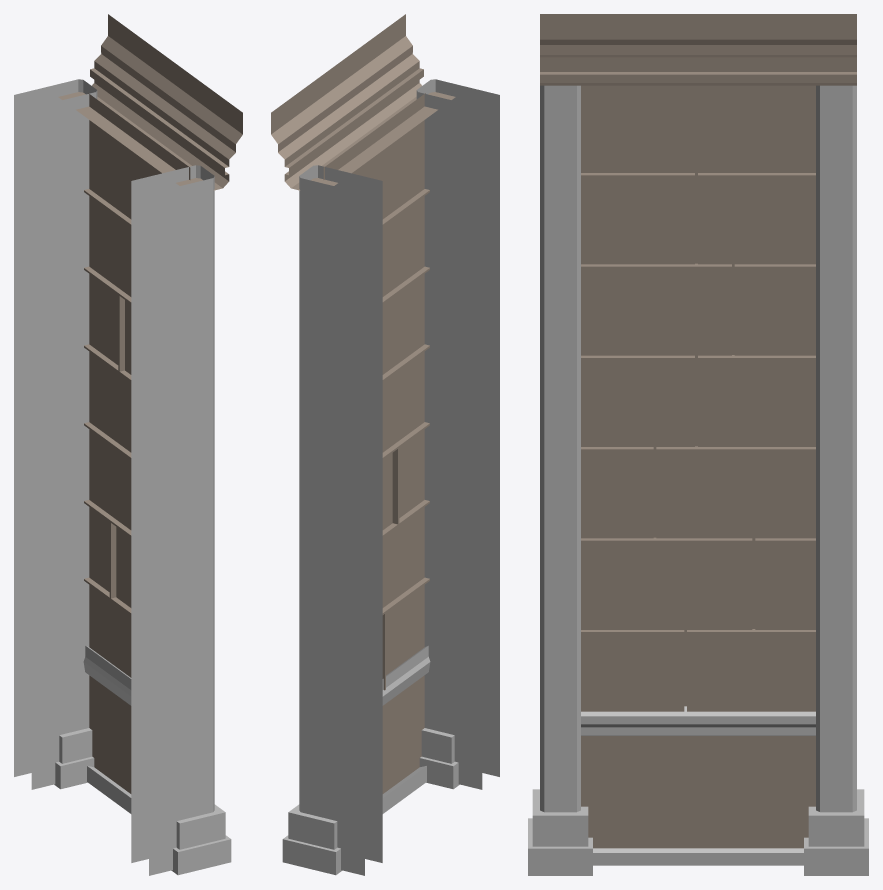
Rendered from Wall_MansionOut.fbx.
3 renders of one model, left to right at view 1: azimuth 30°, elevation 25°; view 2: azimuth 150°, elevation 25°; view 3: azimuth 270°, elevation 25°, orthographic. The views are drawn at different scales.
Parts seen in each view (by area): view 1: Wall_MansionOut; view 2: Wall_MansionOut; view 3: Wall_MansionOut.
Part boxes in pixels (left/top/right/bottom): Wall_MansionOut: left=14, top=14, right=242, bottom=875; Wall_MansionOut: left=271, top=14, right=499, bottom=875; Wall_MansionOut: left=528, top=14, right=868, bottom=875.
Bounding box in the file's own units: 80.68 × 608 × 215.
